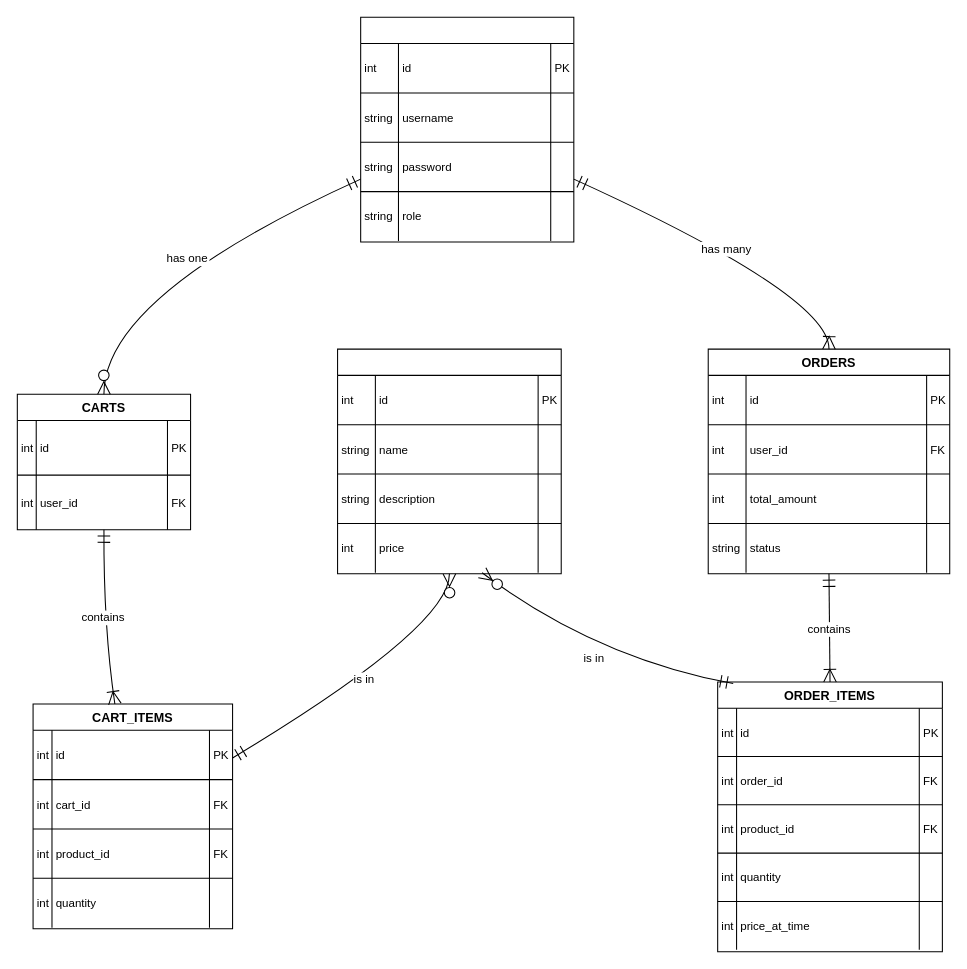
This 967x969 diagram has some shape labels left out. The shapes that lost their labels are listed below. From the top down, each one's box as (x1, y1, x2, y2) in pixels, then its label:
(360, 16, 574, 242): USERS
(337, 348, 561, 574): PRODUCTS
